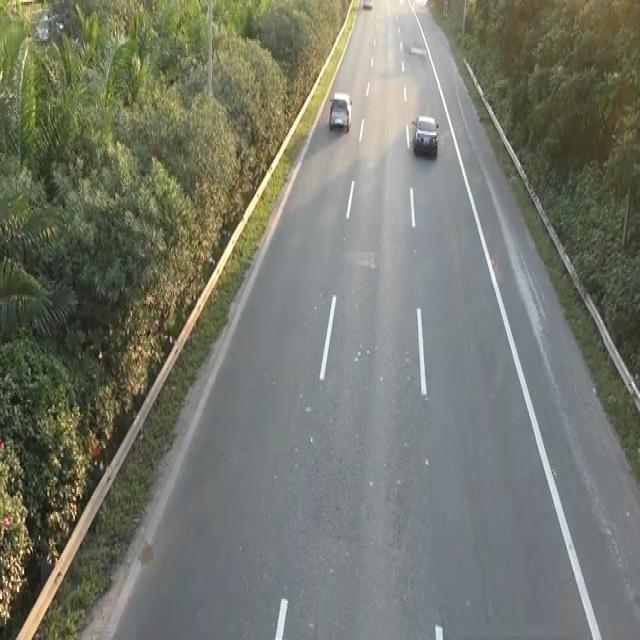bus: (409, 110, 442, 164), (326, 89, 355, 139)
